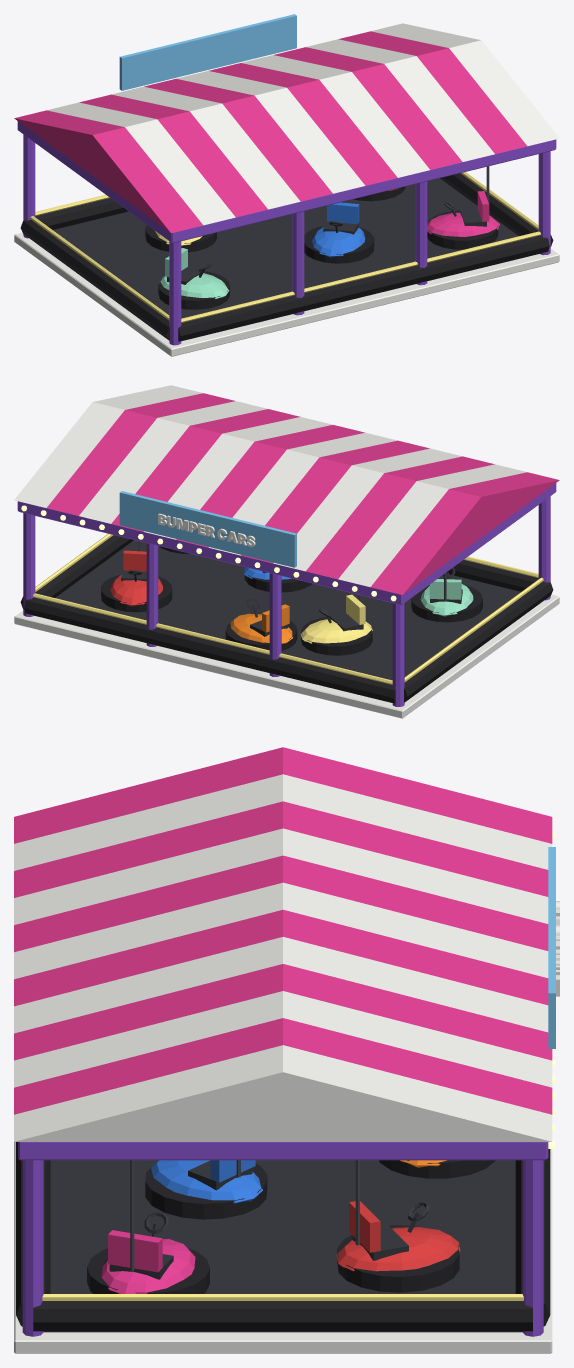
Rendered from BumperCars.fbx.
3 views of the same model, one above another, from view 1: azimuth 30°, elevation 25°; view 2: azimuth 150°, elevation 25°; view 3: azimuth 270°, elevation 25° (orthographic). The views are drawn at different scales.
Parts seen in each view (by area): view 1: BumperCars_White, BumperCars_HotPink, BumperCars_Charcoal, BumperCars_Rubber, BumperCars_Purple, BumperCars_SkyBlue, BumperCars_Lemon, BumperCars_Blue, BumperCars_Mint; view 2: BumperCars_White, BumperCars_HotPink, BumperCars_Charcoal, BumperCars_Rubber, BumperCars_Purple, BumperCars_SkyBlue, BumperCars_Lemon, BumperCars_Red, BumperCars_Mint, BumperCars_Orange, BumperCars_NeonYellow; view 3: BumperCars_White, BumperCars_HotPink, BumperCars_Charcoal, BumperCars_Rubber, BumperCars_Purple, BumperCars_Red, BumperCars_Lemon, BumperCars_Blue, BumperCars_SkyBlue, BumperCars_DarkMetal.
Boxes of the visible parts, x1=… form: BumperCars_White: x1=14, y1=23, x2=559, y2=356; BumperCars_HotPink: x1=14, y1=31, x2=526, y2=236; BumperCars_Charcoal: x1=53, y1=178, x2=538, y2=341; BumperCars_Rubber: x1=20, y1=173, x2=553, y2=341; BumperCars_Purple: x1=17, y1=121, x2=556, y2=345; BumperCars_SkyBlue: x1=119, y1=14, x2=296, y2=90; BumperCars_Lemon: x1=30, y1=172, x2=540, y2=322; BumperCars_Blue: x1=312, y1=202, x2=365, y2=257; BumperCars_Mint: x1=159, y1=248, x2=229, y2=299; BumperCars_White: x1=14, y1=385, x2=559, y2=718; BumperCars_HotPink: x1=46, y1=393, x2=559, y2=594; BumperCars_Charcoal: x1=35, y1=540, x2=520, y2=702; BumperCars_Rubber: x1=20, y1=535, x2=553, y2=703; BumperCars_Purple: x1=17, y1=483, x2=556, y2=706; BumperCars_SkyBlue: x1=119, y1=491, x2=296, y2=567; BumperCars_Lemon: x1=33, y1=533, x2=543, y2=684; BumperCars_Red: x1=110, y1=550, x2=163, y2=606; BumperCars_Mint: x1=420, y1=579, x2=473, y2=616; BumperCars_Orange: x1=230, y1=604, x2=293, y2=643; BumperCars_NeonYellow: x1=21, y1=505, x2=396, y2=601; BumperCars_White: x1=14, y1=774, x2=559, y2=1353; BumperCars_HotPink: x1=14, y1=747, x2=552, y2=1293; BumperCars_Charcoal: x1=43, y1=1160, x2=522, y2=1332; BumperCars_Rubber: x1=16, y1=1142, x2=550, y2=1331; BumperCars_Purple: x1=18, y1=1142, x2=548, y2=1336; BumperCars_Red: x1=336, y1=1201, x2=460, y2=1271; BumperCars_Lemon: x1=42, y1=1294, x2=523, y2=1300; BumperCars_Blue: x1=151, y1=1160, x2=262, y2=1203; BumperCars_SkyBlue: x1=548, y1=847, x2=555, y2=1048; BumperCars_DarkMetal: x1=130, y1=1160, x2=359, y2=1271.
Bounding box in the file's own units: 40 × 16.2 × 28.4.
